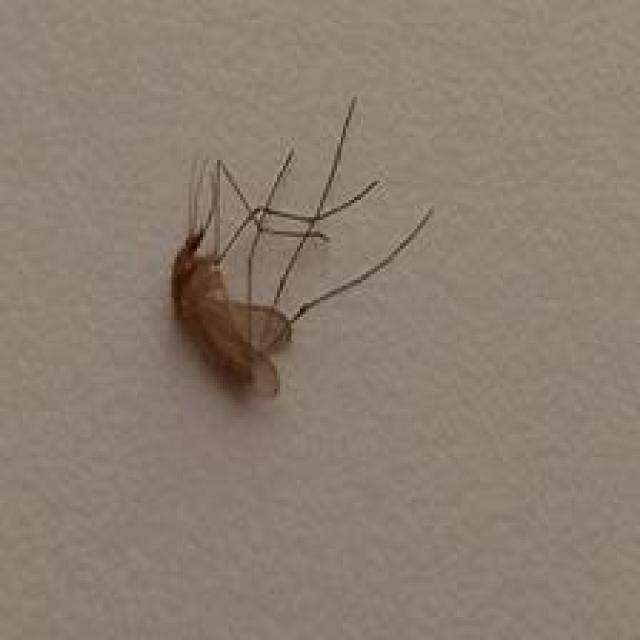Culex: (169, 93, 434, 398)
